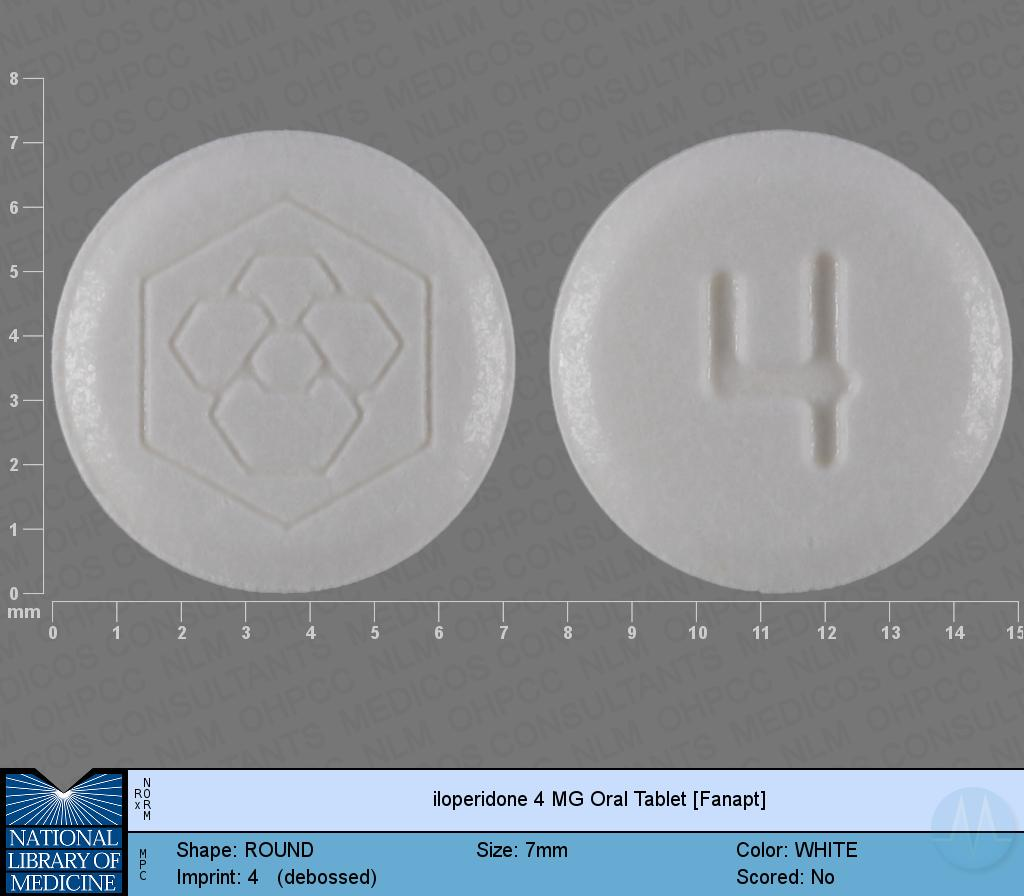Pill: (538, 120, 1024, 600), (42, 123, 528, 602)
